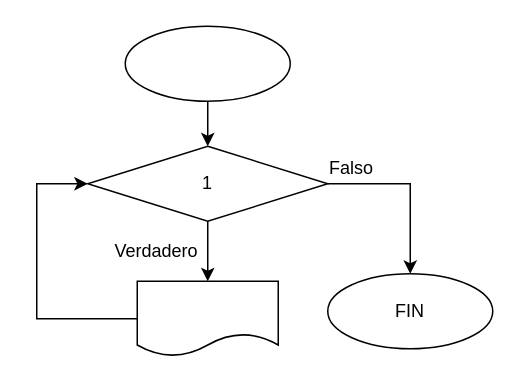
Some shapes in this 519 by 383 pixel diagram are drawn without their labels. Each missing label, with the centre of its shape:
"MODABA": point 207,318
INICIO: point 207,63
